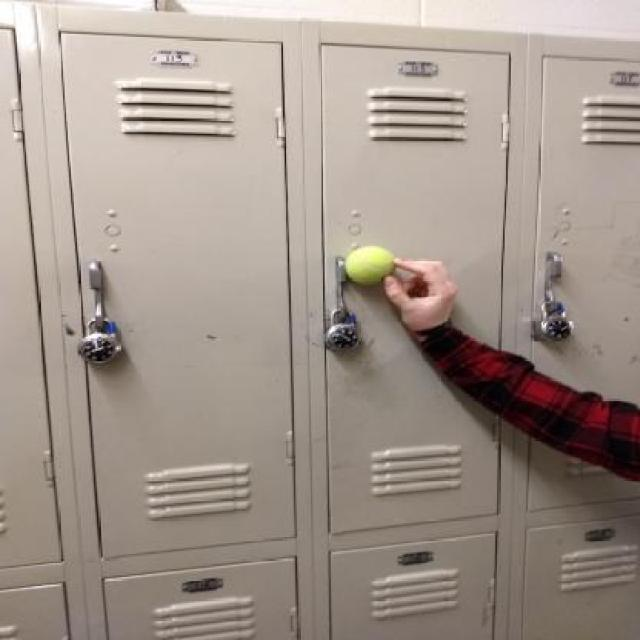Tennis_Ball: (346, 243, 397, 277)
